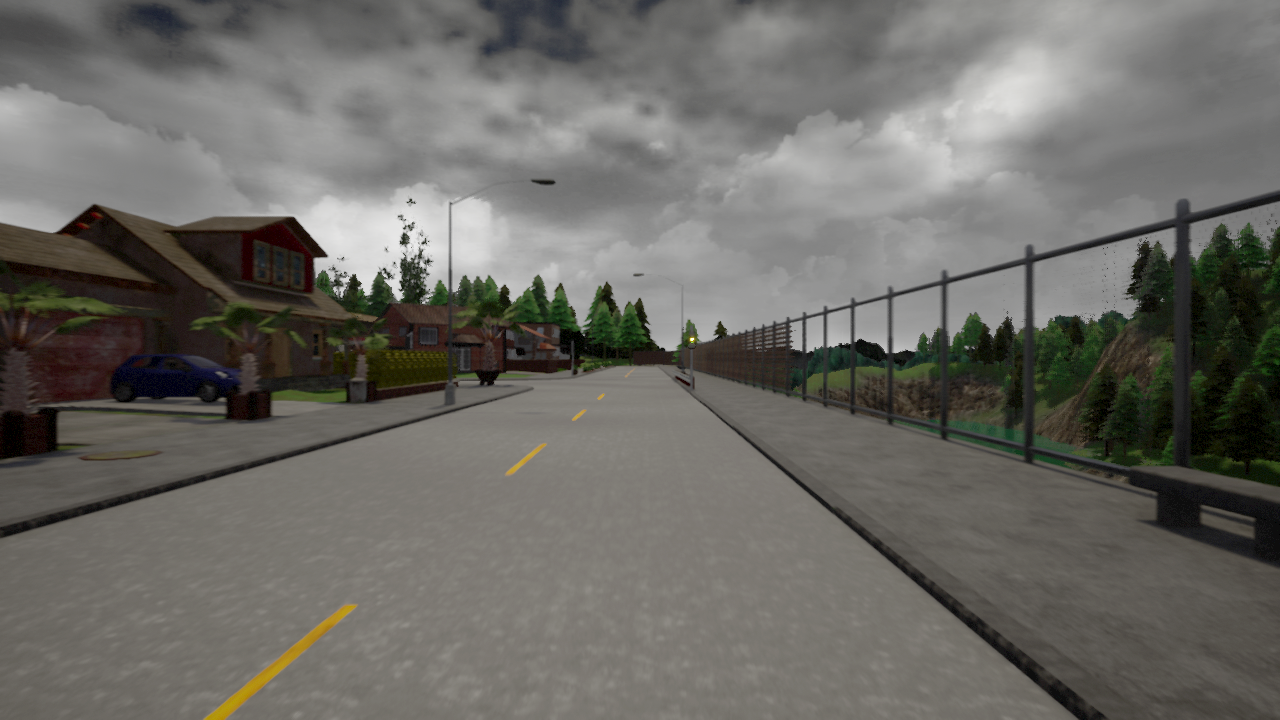yellow: (686, 329, 697, 348)
